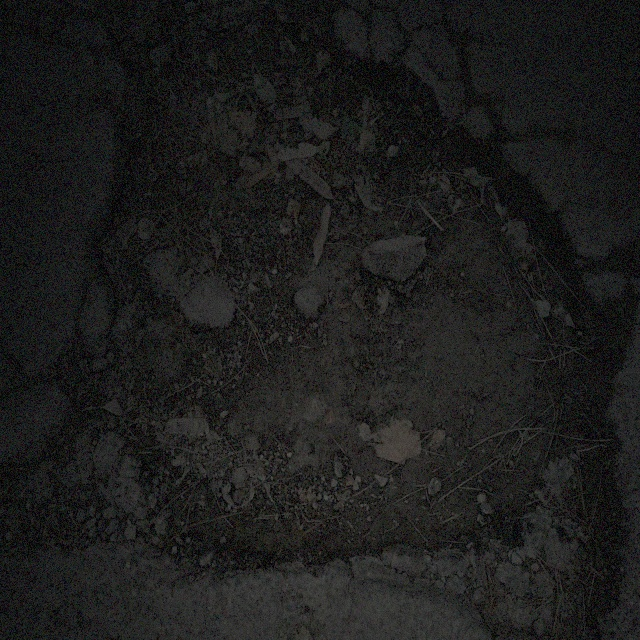pothole: (86, 39, 603, 592)
